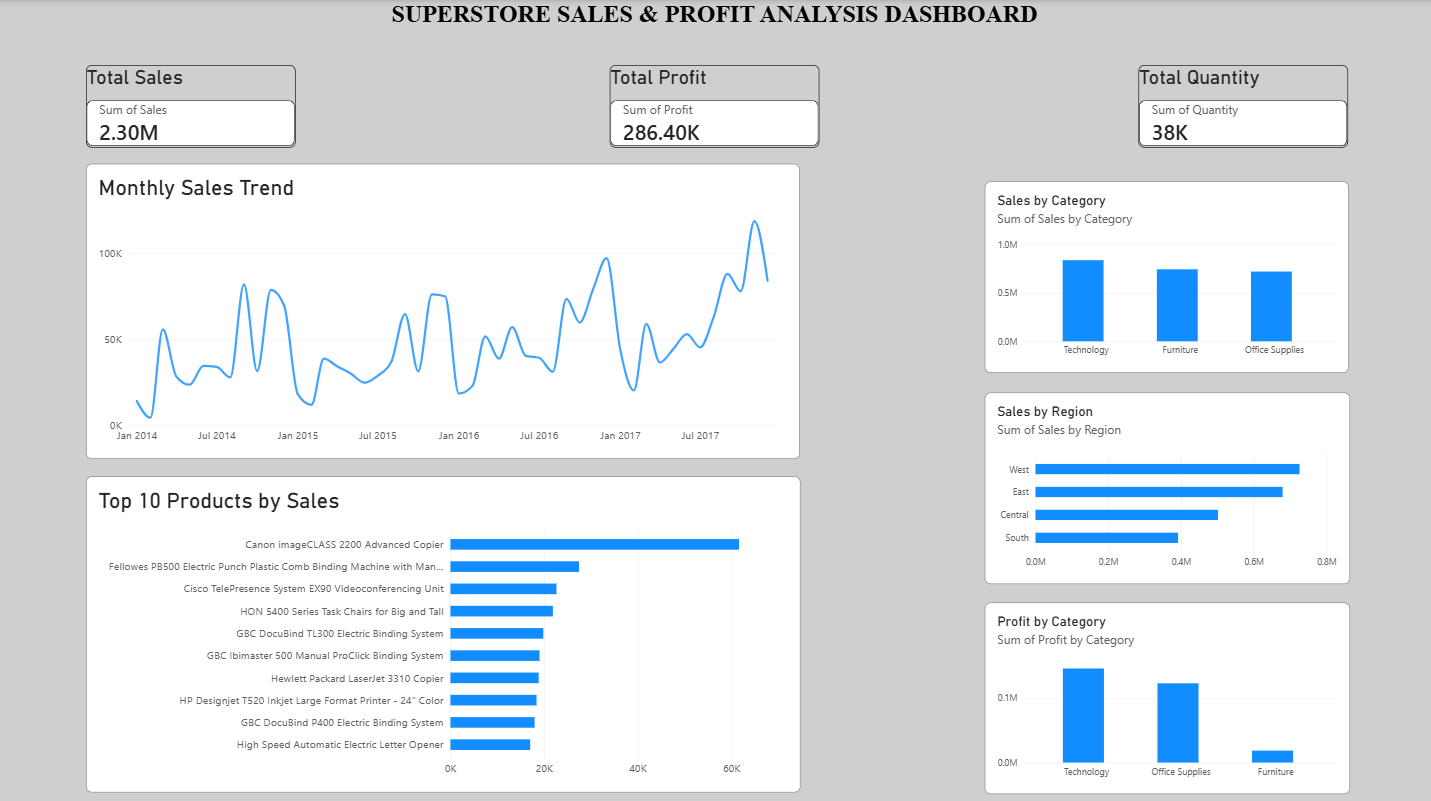

The dashboard page shown, as its layout file describes it:
{"tool":"powerbi","page":{"name":"Page 8","canvas":[1920,1080],"ordinal":0},"visuals":[{"type":"textbox","box":[0,0,1919.6,58.9],"z":0},{"type":"cardVisual","title":"Total Sales","fields":{"Data":["Sum(sample_superstore.Sales)"]},"box":[120,86,280,110],"z":1},{"type":"cardVisual","title":"Total Profit","fields":{"Data":["Sum(sample_superstore.Profit)"]},"box":[820,86,280,110],"z":2},{"type":"cardVisual","title":"Total Quantity","fields":{"Data":["Sum(sample_superstore.Quantity)"]},"box":[1526,86,280,110],"z":3},{"type":"lineChart","title":"Monthly Sales Trend","fields":{"Category":["sample_superstore.Month Start.Variation.Date Hierarchy.Year","sample_superstore.Month Start.Variation.Date Hierarchy.Quarter","sample_superstore.Month Start.Variation.Date Hierarchy.Month","sample_superstore.Month Start.Variation.Date Hierarchy.Day"],"Y":["Sum(sample_superstore.Sales)"]},"box":[119.4,219,953.7,394.5],"z":4},{"type":"clusteredColumnChart","title":"Sales by Category","fields":{"Category":["sample_superstore.Category"],"Y":["Sum(sample_superstore.Sales)"]},"box":[1320,242,486,256],"z":5},{"type":"clusteredBarChart","title":"Sales by Region","fields":{"Category":["sample_superstore.Region"],"Y":["Sum(sample_superstore.Sales)"]},"box":[1320,524,488,256],"z":6},{"type":"clusteredColumnChart","title":"Profit by Category","fields":{"Category":["sample_superstore.Category"],"Y":["Sum(sample_superstore.Profit)"]},"box":[1320,804,488,256],"z":7},{"type":"clusteredBarChart","title":"Top 10 Products by Sales","fields":{"Category":["sample_superstore.Product Name"],"Y":["Sum(sample_superstore.Sales)"]},"box":[119.4,637,954,422],"z":8}]}

Visuals, with their boxes in screenshot pixels (x1, y1, x2, y2), scaled from the page's 1920x1080 canvas onto the 1431x801 screenshot:
textbox: x1=0, y1=0, x2=1430, y2=44
"Total Sales" cardVisual: x1=89, y1=64, x2=298, y2=145
"Total Profit" cardVisual: x1=611, y1=64, x2=820, y2=145
"Total Quantity" cardVisual: x1=1137, y1=64, x2=1346, y2=145
"Monthly Sales Trend" lineChart: x1=89, y1=162, x2=800, y2=455
"Sales by Category" clusteredColumnChart: x1=984, y1=179, x2=1346, y2=369
"Sales by Region" clusteredBarChart: x1=984, y1=389, x2=1348, y2=578
"Profit by Category" clusteredColumnChart: x1=984, y1=596, x2=1348, y2=786
"Top 10 Products by Sales" clusteredBarChart: x1=89, y1=472, x2=800, y2=785
